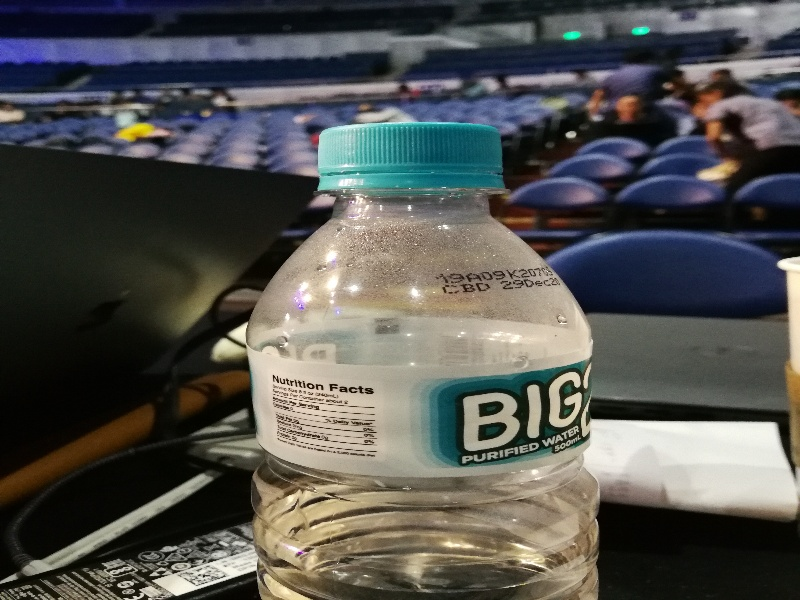PET #1: (239, 116, 602, 600)
